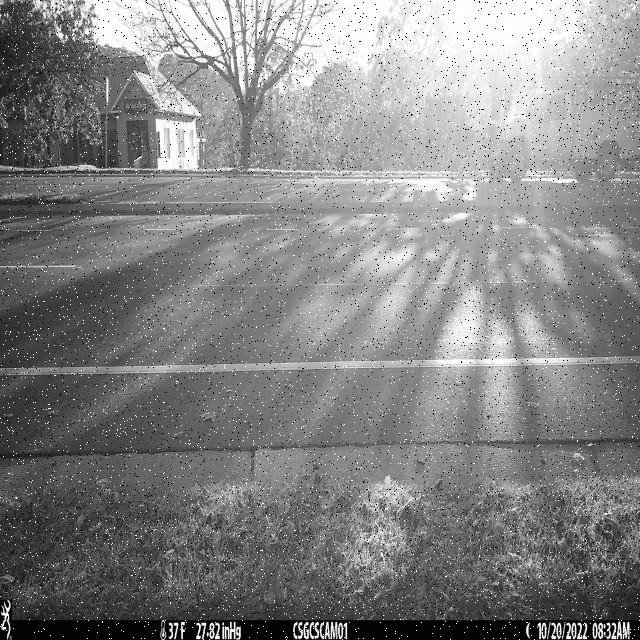Pickup- Utility: (479, 89, 640, 182)
